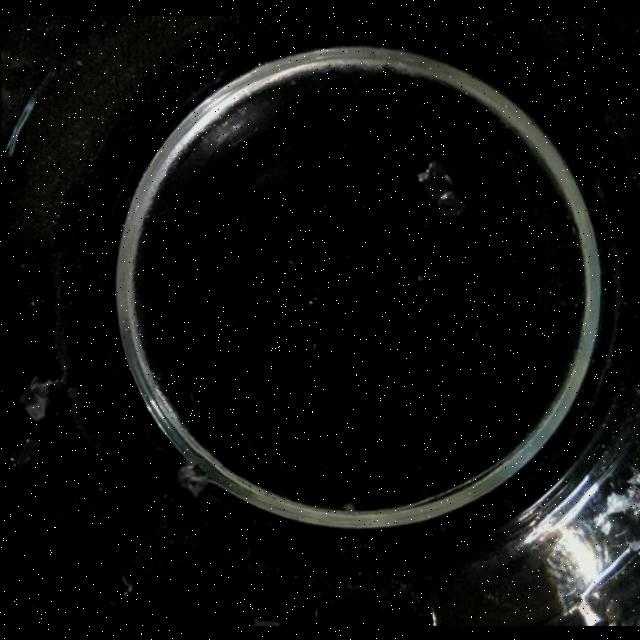Fibre: (409, 154, 465, 222), (19, 375, 57, 421), (175, 464, 209, 498), (12, 437, 38, 467), (117, 572, 133, 596)
microbeads: (416, 274, 424, 282)
